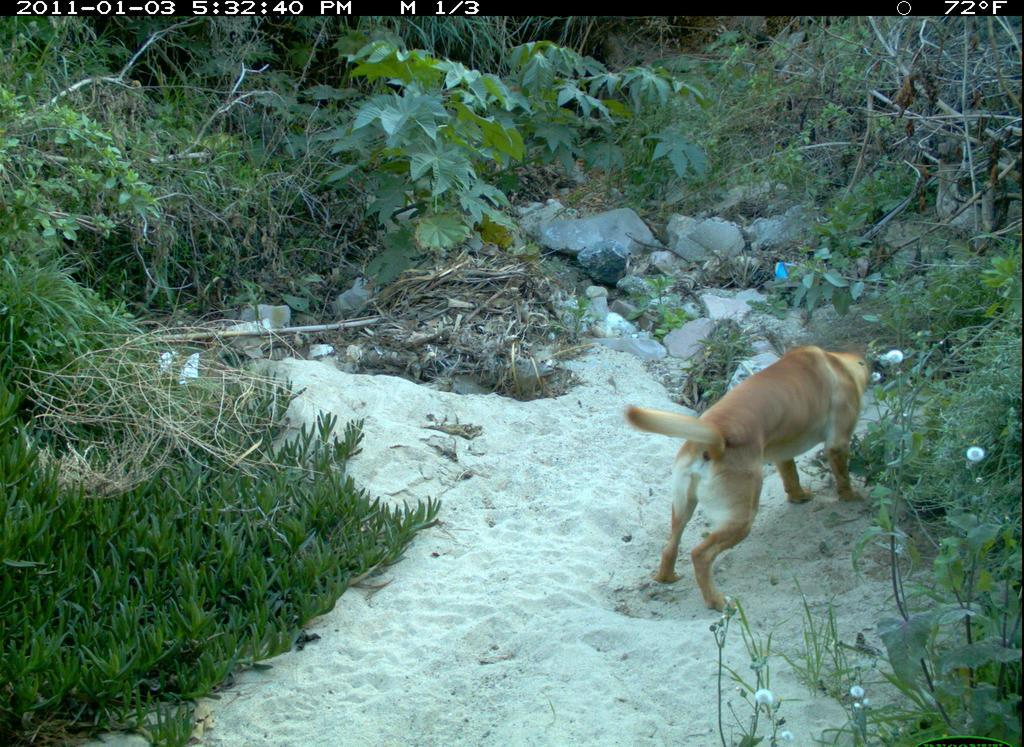dog: (610, 335, 882, 620)
